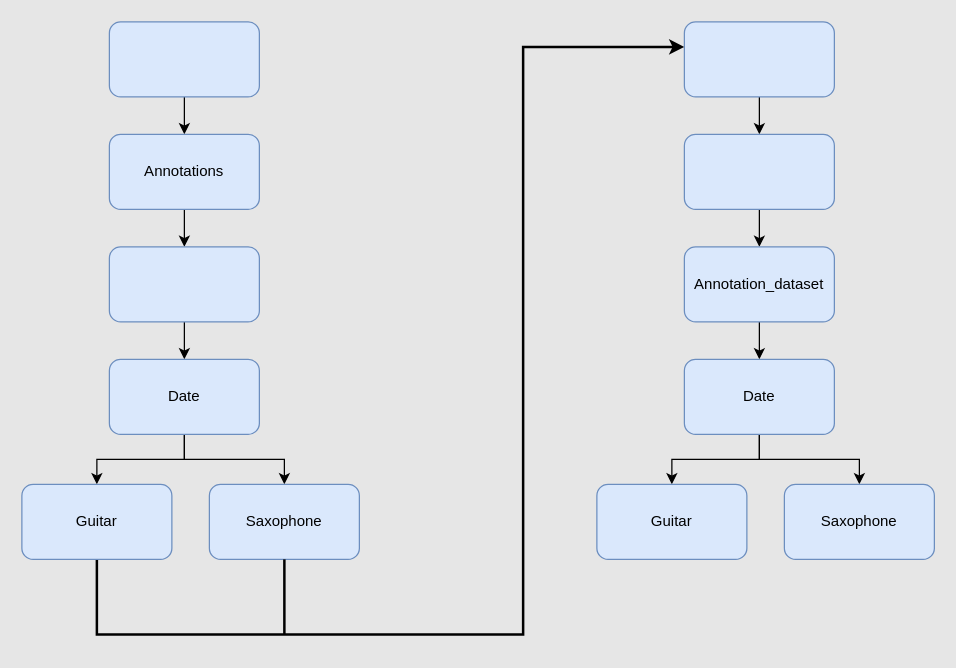
The diagram is 956 pixels wide and 668 high, and some of its shapes have lost their labels. The shapes that lost their labels are listed below. From the top down, each one's box as (x1, y1, x2, y2) in pixels, then its label:
(108, 21, 259, 97): From Instrumantal_ midi_unlabled
(683, 21, 834, 97): GPU
(683, 133, 834, 209): Home
(108, 246, 259, 322): Kartik_Codes
